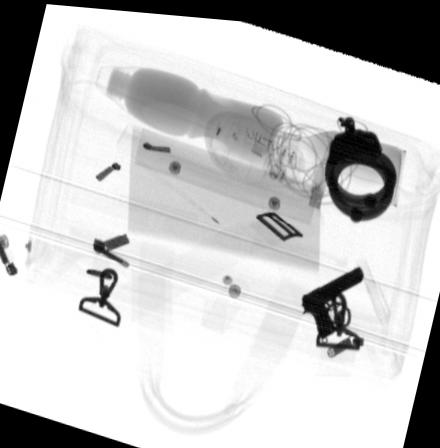Gun: (300, 258, 364, 337)
HandCuffs: (324, 112, 397, 213)
